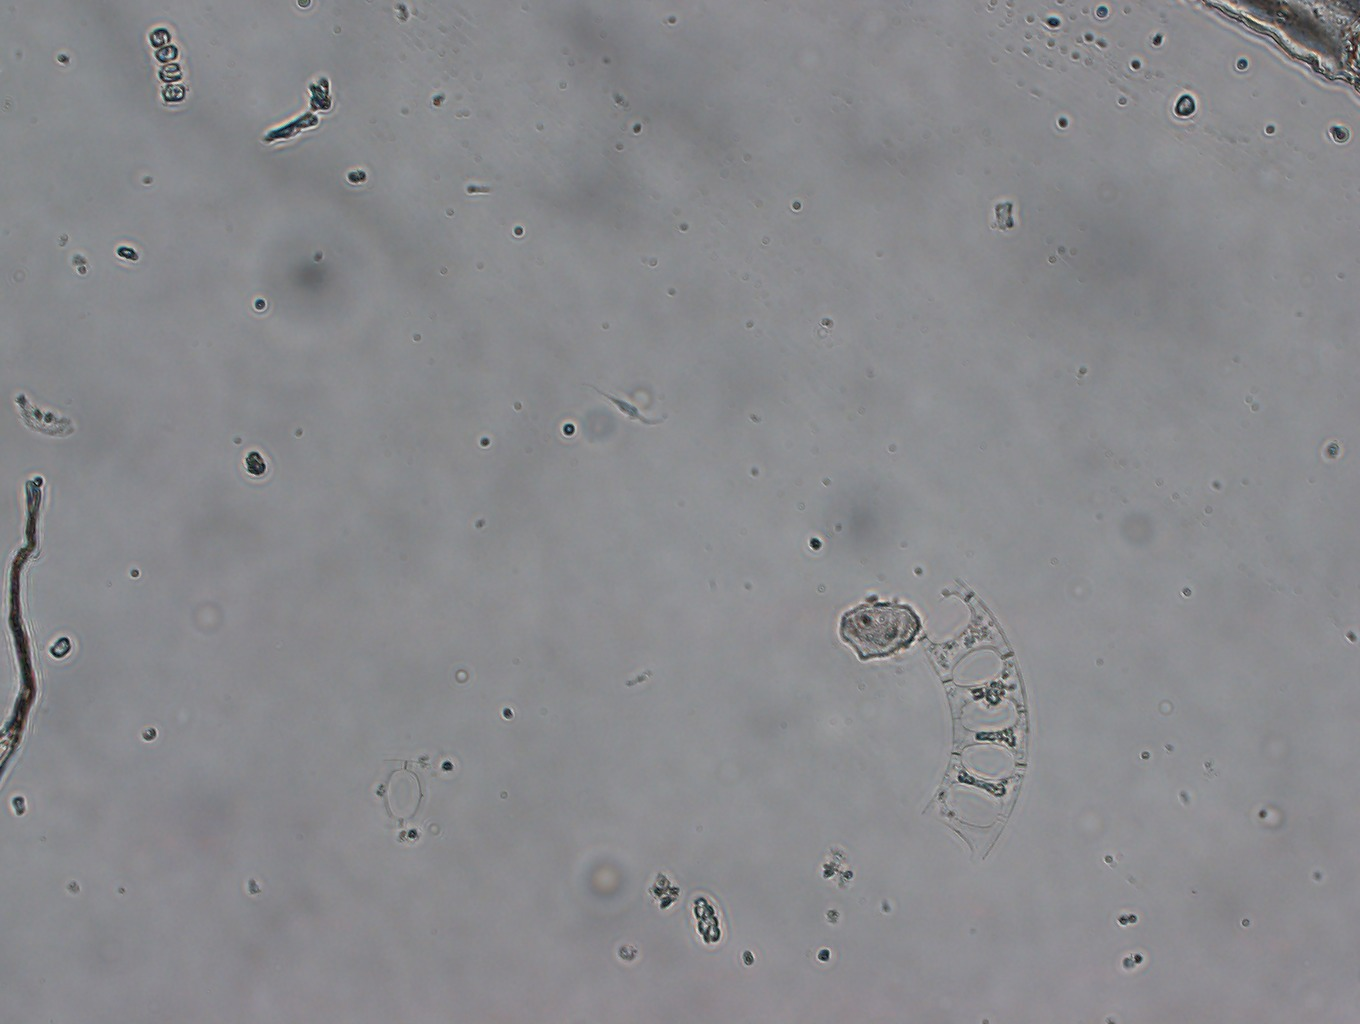eucampia: (896, 574, 1036, 868)
skeletonema: (130, 24, 198, 116)
